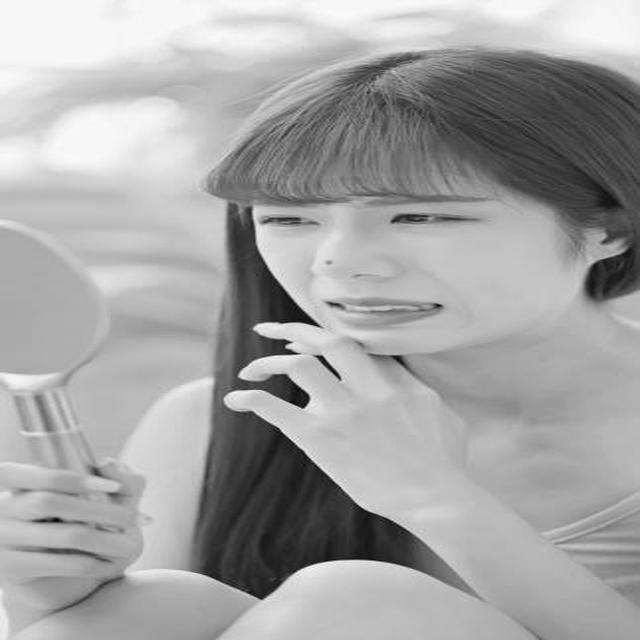Disgust: (252, 132, 569, 356)
